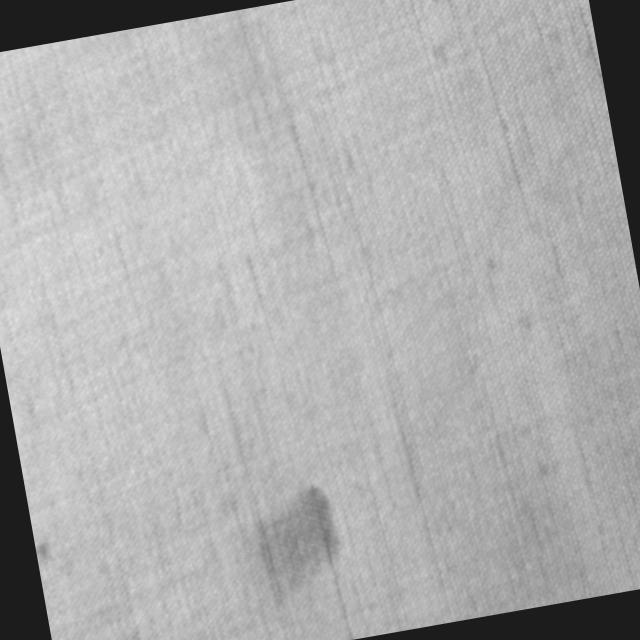oil spot: (244, 474, 352, 616)
